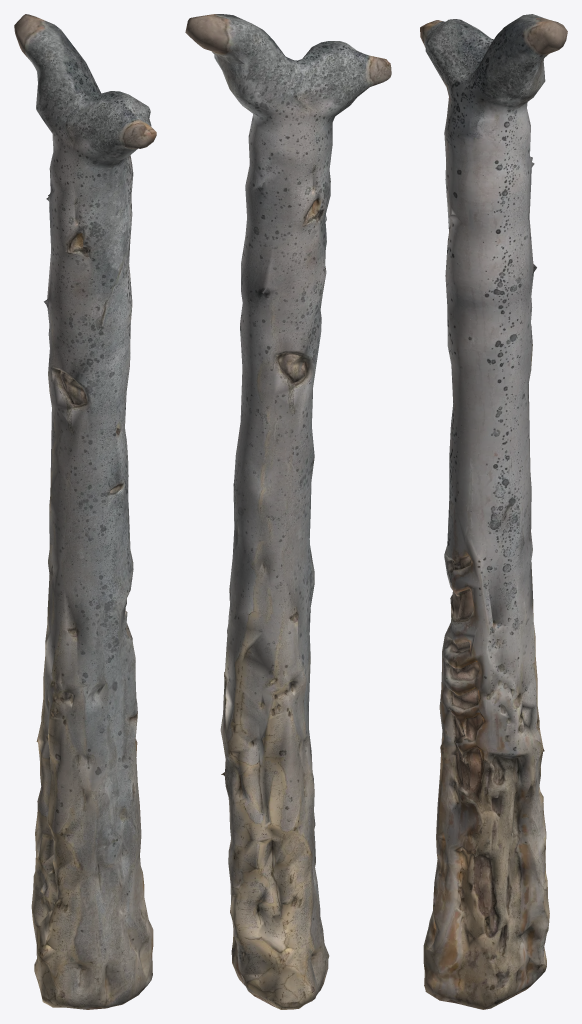
The model's file is p_quiver.glb.
3 views of the same model, side by side, from view 1: azimuth 90°, elevation 25°; view 2: azimuth 150°, elevation 25°; view 3: azimuth 270°, elevation 25° (orthographic). The views are drawn at different scales.
Parts seen in each view (by area): view 1: dead_quiver_trunk_LOD0; view 2: dead_quiver_trunk_LOD0; view 3: dead_quiver_trunk_LOD0.
Boxes of the visible parts, <box> form: dead_quiver_trunk_LOD0: <box>14,14,156,1009</box>; dead_quiver_trunk_LOD0: <box>185,14,391,1009</box>; dead_quiver_trunk_LOD0: <box>420,14,567,1009</box>.
Size of the model in its own units: 0.3053 by 1.99 by 0.2681.
1 material, 1 textured.
